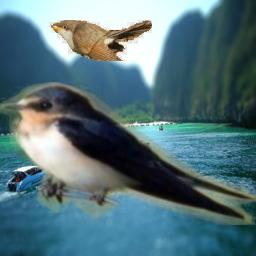Cuckoo: (49, 20, 152, 61)
Swallow: (0, 82, 256, 225)
